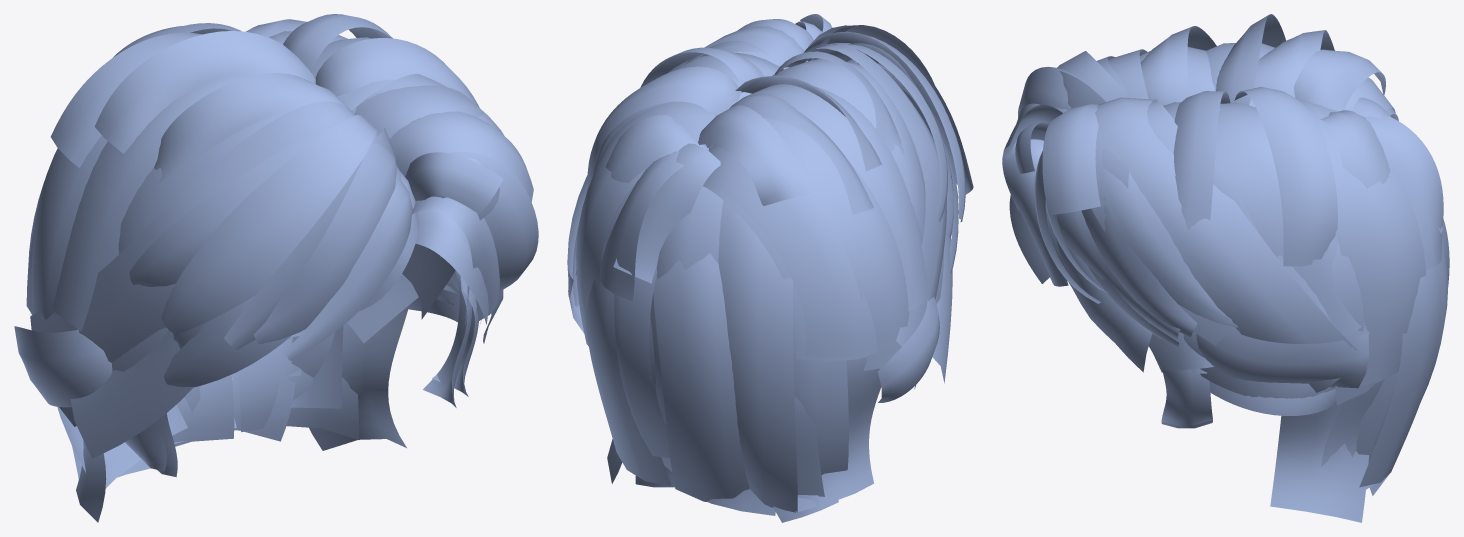
File: chul.fbx
3 views of the same model, side by side, from view 1: azimuth 30°, elevation 25°; view 2: azimuth 150°, elevation 25°; view 3: azimuth 270°, elevation 25° (orthographic). The views are drawn at different scales.
Parts seen in each view (by area): view 1: geo_hair-card_3.006; view 2: geo_hair-card_3.006; view 3: geo_hair-card_3.006.
Part boxes in pixels (left/top/right/bottom): geo_hair-card_3.006: left=14, top=14, right=538, bottom=522; geo_hair-card_3.006: left=567, top=14, right=973, bottom=522; geo_hair-card_3.006: left=1002, top=14, right=1449, bottom=522.
Bounding box in the file's own units: 214 × 243 × 231.
